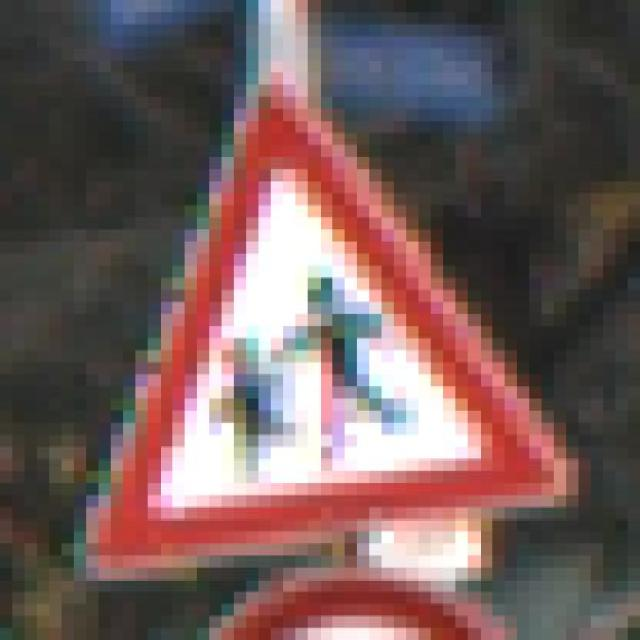Beware of children: (49, 79, 591, 575)
